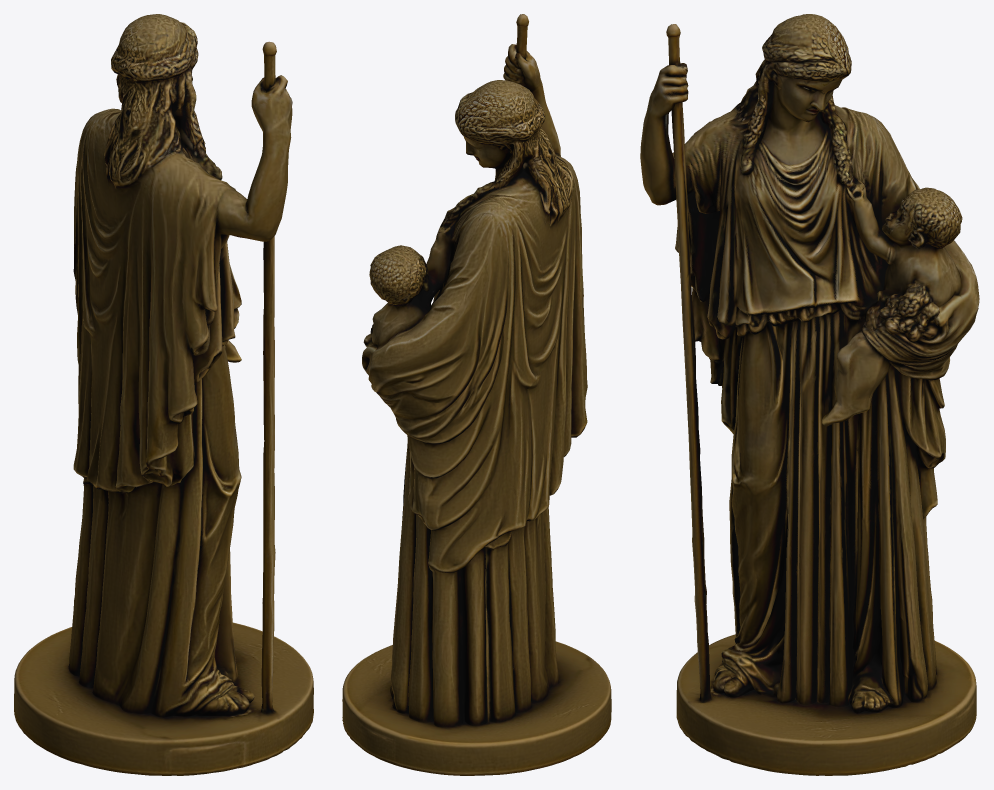
The model's file is hyp-2.glb.
3 views of the same model, side by side, from view 1: azimuth 30°, elevation 25°; view 2: azimuth 150°, elevation 25°; view 3: azimuth 270°, elevation 25° (orthographic). The views are drawn at different scales.
Visible parts, largest first — view 1: tripo_node_747df3d8-2541-41ea-bde9-de4928f0bcdb; view 2: tripo_node_747df3d8-2541-41ea-bde9-de4928f0bcdb; view 3: tripo_node_747df3d8-2541-41ea-bde9-de4928f0bcdb.
Part boxes in pixels (x1,y1,x2,y2): tripo_node_747df3d8-2541-41ea-bde9-de4928f0bcdb: (14,14,313,775); tripo_node_747df3d8-2541-41ea-bde9-de4928f0bcdb: (342,14,611,775); tripo_node_747df3d8-2541-41ea-bde9-de4928f0bcdb: (640,14,979,775).
Bounding box in the file's own units: 0.3753 × 1 × 0.4367.
1 material, 1 textured.
